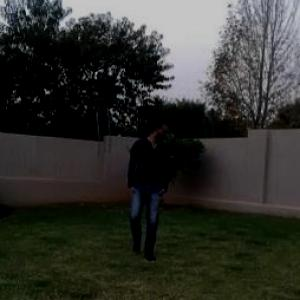follow: (125, 108, 169, 255)
